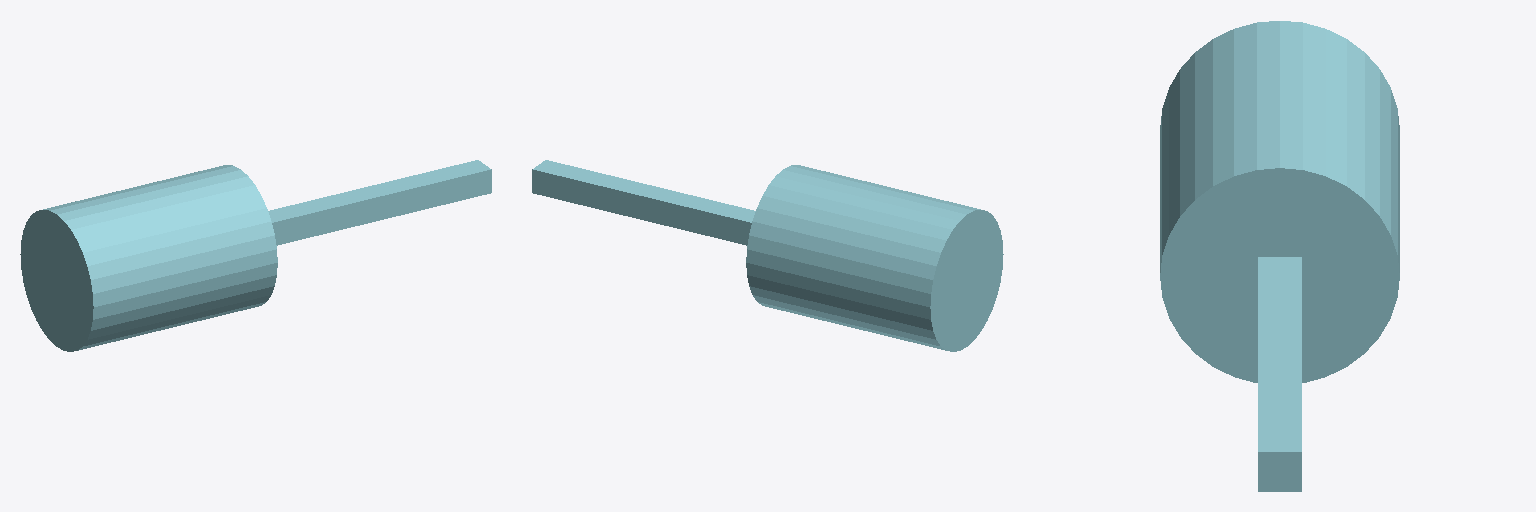
URDF robot description (cylinder_screwdriver_v3001):
<?xml version="1.0"?>
<robot name="cylinder_screwdriver_v3001">

  <link name="cylinder_screwdriver_v3001">
    <!-- Handle -->
    <visual>
      <origin xyz="0 0 0" rpy="0 1.5707963267948966 0"/>
      <geometry>
        <cylinder length="0.11217874757988763" radius="0.03853979715891426"/>
      </geometry>
      <material name="material">
        <color rgba="0.639 0.847 0.882 1.0"/>
      </material>
    </visual>
    <collision>
      <origin xyz="0 0 0" rpy="0 1.5707963267948966 0"/>
      <geometry>
        <cylinder length="0.11217874757988763" radius="0.03853979715891426"/>
      </geometry>
    </collision>

    <!-- Head -->
    <visual>
      <origin xyz="0.13027220101340753 0 0" rpy="0 0 0"/>
      <geometry>
        <box size="0.1483656544469274 0.014010129401367966 0.013897387703856644"/>
      </geometry>
      <material name="material">
        <color rgba="0.639 0.847 0.882 1.0"/>
      </material>
    </visual>
    <collision>
      <origin xyz="0.13027220101340753 0 0" rpy="0 0 0"/>
      <geometry>
        <box size="0.1483656544469274 0.014010129401367966 0.013897387703856644"/>
      </geometry>
    </collision>

    <inertial>
      <density value="400.0"/>
    </inertial>
  </link>

</robot>

--- Render facts (derived) ---
3 views of the same robot in one strip: view 1: azimuth 30°, elevation 25°; view 2: azimuth 150°, elevation 25°; view 3: azimuth 270°, elevation 25° (orthographic).
Robot: cylinder_screwdriver_v3001 — 1 links, 0 joints (none); root link cylinder_screwdriver_v3001; default pose: all joints at 0.
Visible links, largest first — view 1: cylinder_screwdriver_v3001; view 2: cylinder_screwdriver_v3001; view 3: cylinder_screwdriver_v3001.
Link boxes in pixels (x1,y1,x2,y2): cylinder_screwdriver_v3001: [20, 160, 491, 351]; cylinder_screwdriver_v3001: [532, 160, 1003, 351]; cylinder_screwdriver_v3001: [1160, 21, 1399, 491].
Size in the robot's own frame: 0.2605 by 0.0771 by 0.0771 metres.
Geometry: primitives only (box / cylinder / sphere), no mesh files.
